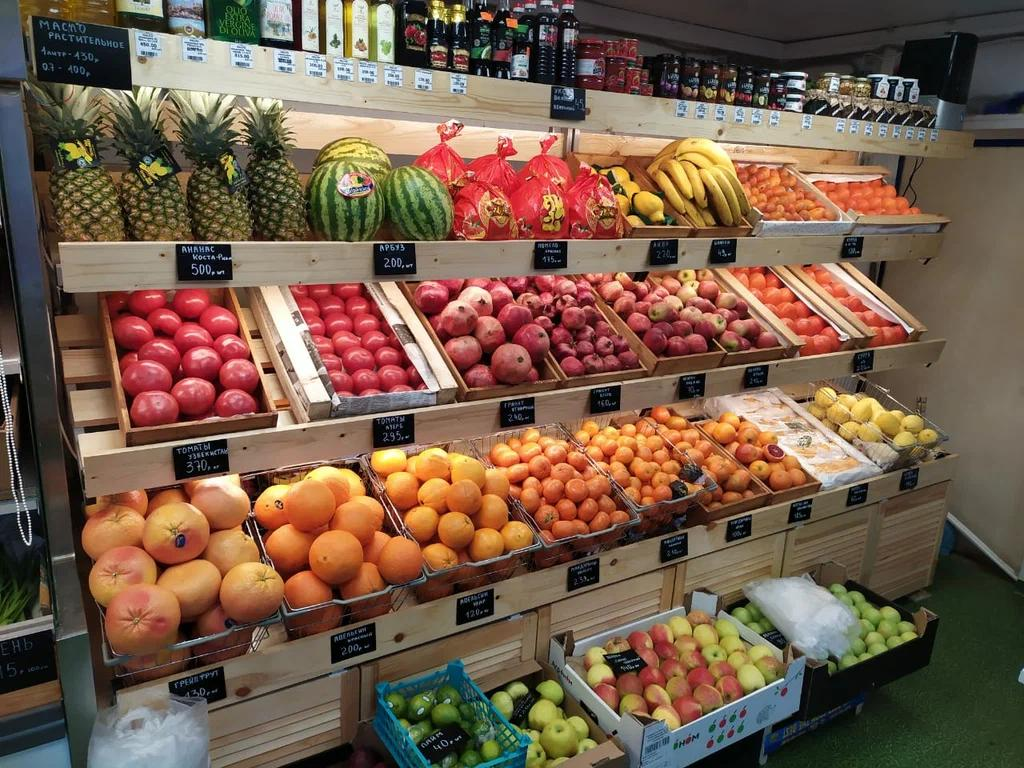banana: (654, 135, 750, 224)
green apple: (738, 579, 919, 677), (492, 680, 592, 762)
lemon: (813, 377, 939, 453)
mandarin: (491, 428, 629, 533), (575, 422, 699, 507)
orange: (262, 467, 413, 605), (376, 452, 517, 560)
pineapple: (32, 83, 308, 242)
pomegranate: (423, 280, 551, 384), (529, 274, 639, 369)
red apple: (587, 629, 740, 735), (617, 273, 772, 359)
tomato: (105, 291, 262, 428), (286, 280, 429, 399)
watermelon: (307, 134, 457, 241)
